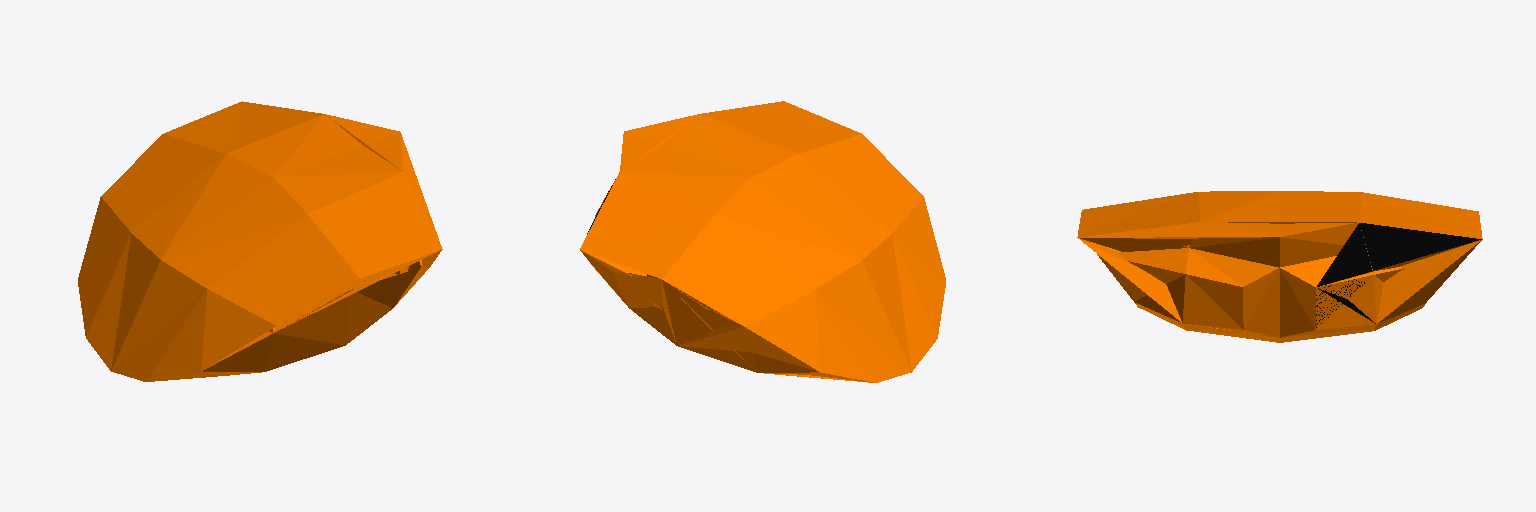
File: Crab.obj
3 renders of one model, left to right at view 1: azimuth 30°, elevation 25°; view 2: azimuth 150°, elevation 25°; view 3: azimuth 270°, elevation 25°, orthographic.
Parts seen in each view (by area): view 1: obj108, obj107, obj89, obj102; view 2: obj108, obj107, obj89, obj84, obj102, obj98; view 3: obj108, obj102, obj101, obj81, obj89, obj92, obj84.
Part boxes in pixels (left/top/right/bottom): obj108: left=78, top=101, right=441, bottom=381; obj107: left=131, top=134, right=224, bottom=232; obj89: left=78, top=117, right=442, bottom=332; obj102: left=79, top=200, right=441, bottom=332; obj108: left=580, top=101, right=945, bottom=382; obj107: left=645, top=214, right=813, bottom=310; obj89: left=613, top=116, right=870, bottom=382; obj84: left=629, top=280, right=818, bottom=371; obj102: left=615, top=226, right=819, bottom=369; obj98: left=662, top=280, right=741, bottom=344; obj108: left=1077, top=191, right=1482, bottom=342; obj102: left=1078, top=223, right=1376, bottom=337; obj101: left=1316, top=223, right=1481, bottom=327; obj81: left=1315, top=239, right=1482, bottom=329; obj89: left=1079, top=222, right=1480, bottom=320; obj92: left=1378, top=240, right=1481, bottom=323; obj84: left=1375, top=241, right=1476, bottom=319.
Bounding box in the file's own units: 9.4 × 5.55 × 11.43.